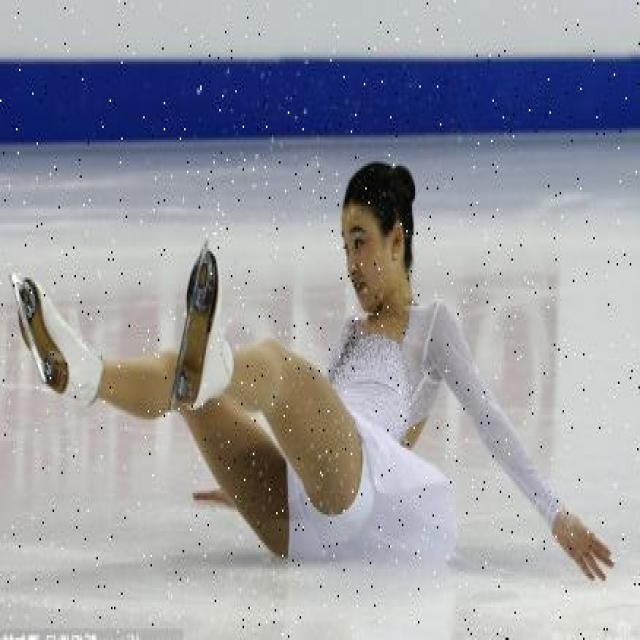fall: (54, 173, 541, 548)
